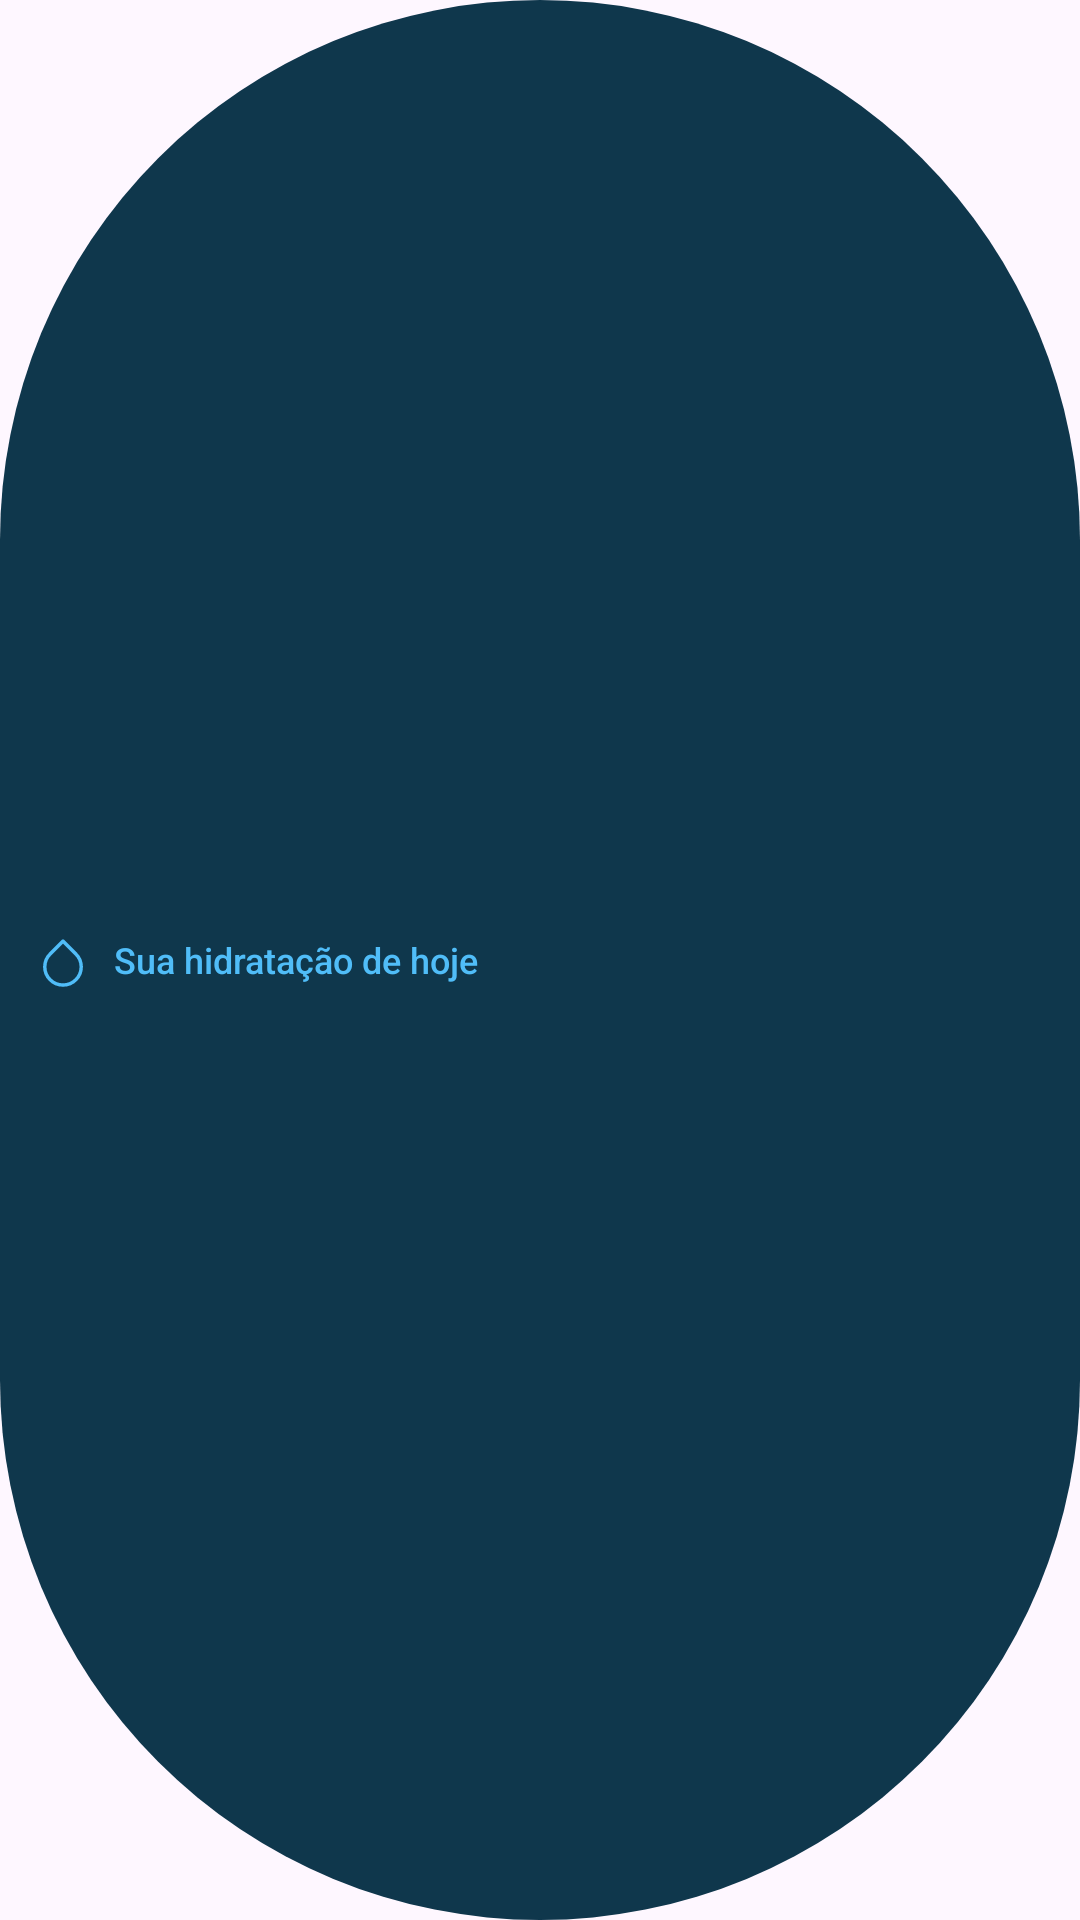

Point at icon controls on the screen. Image size 1080w x 1920h, points as (x,y).
water drop: (63,963)
